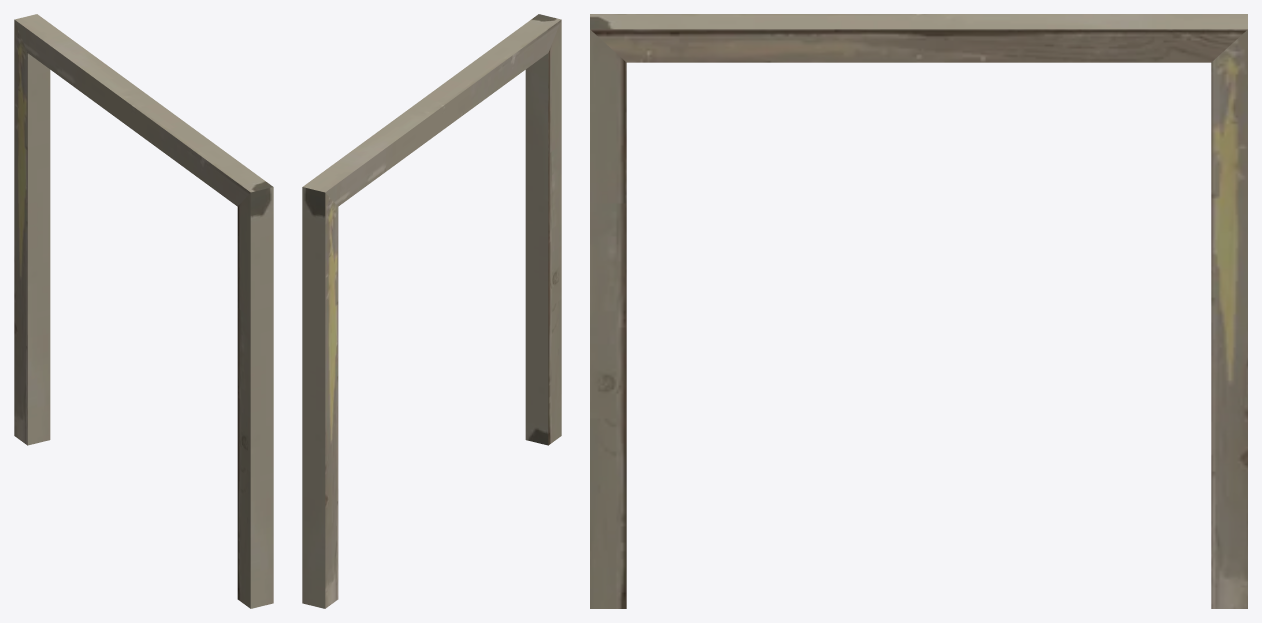
The picture shows the model from 3 angles, left to right: view 1: azimuth 30°, elevation 25°; view 2: azimuth 150°, elevation 25°; view 3: azimuth 270°, elevation 25°; orthographic projection. The views are drawn at different scales.
Visible parts, largest first — view 1: body0_model0_lod0_mesh0; view 2: body0_model0_lod0_mesh0; view 3: body0_model0_lod0_mesh0.
Boxes of the visible parts, <box> form: body0_model0_lod0_mesh0: <box>14,14,273,608</box>; body0_model0_lod0_mesh0: <box>302,14,561,608</box>; body0_model0_lod0_mesh0: <box>590,14,1247,608</box>.
Size of the model in its own units: 8 by 140 by 144.
Materials: 1 (1 with a texture image).
